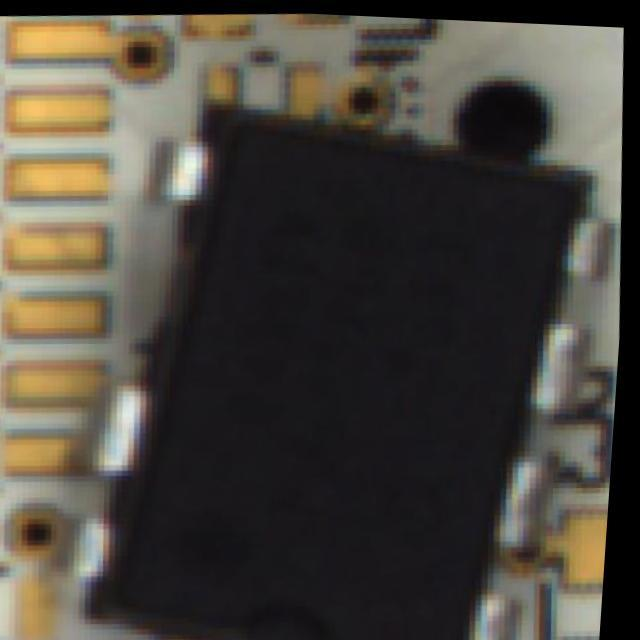IC: (49, 108, 634, 640)
